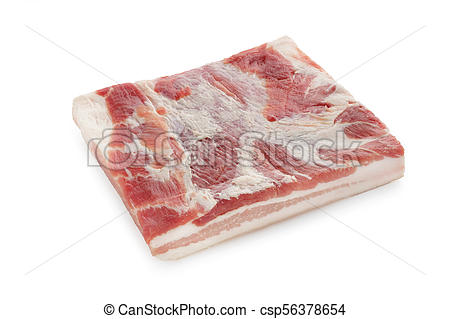bacon: (72, 51, 392, 235)
